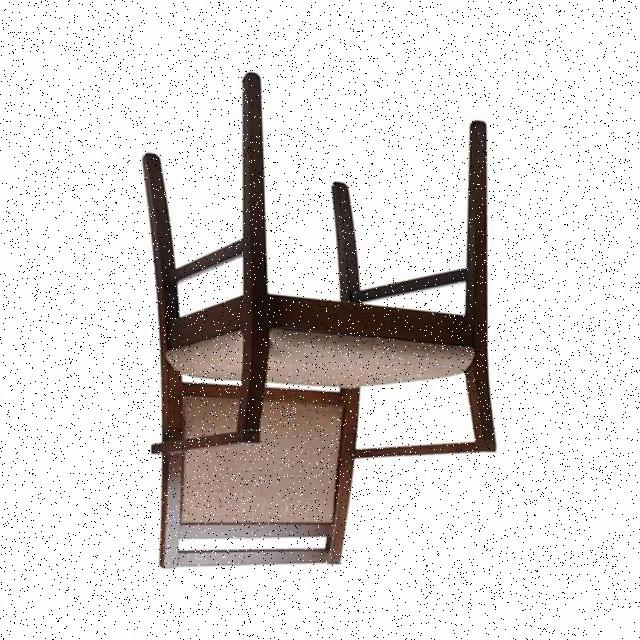bottle: (140, 58, 512, 577)
